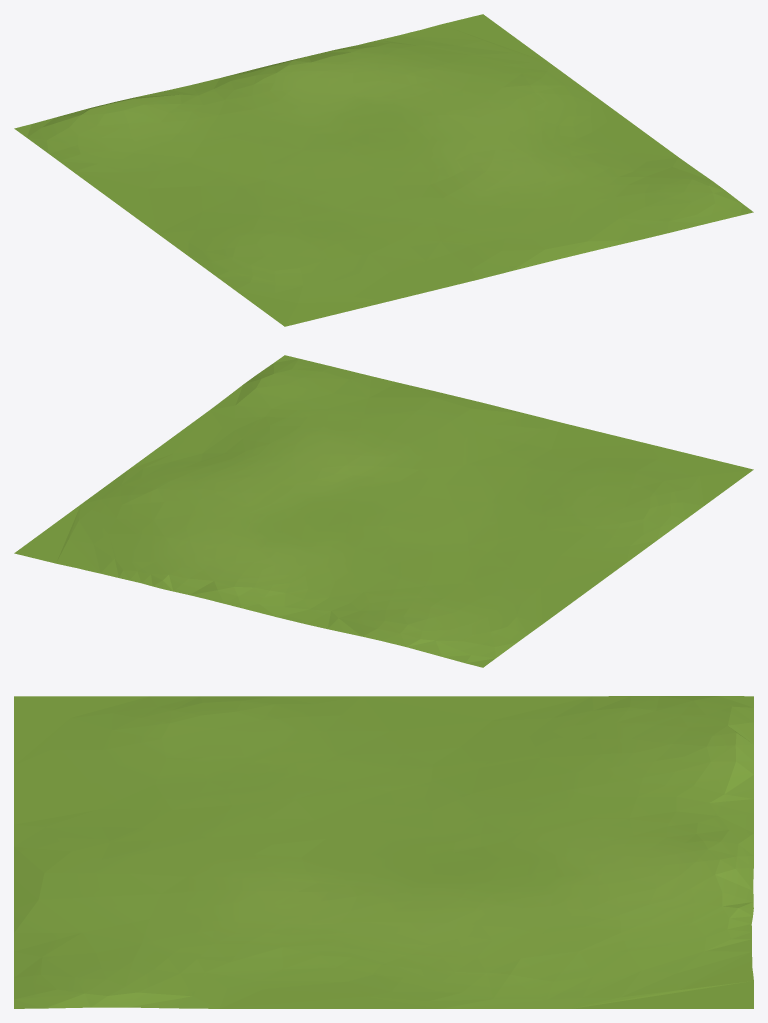
3 renders of one model, top to bottom at view 1: azimuth 30°, elevation 25°; view 2: azimuth 150°, elevation 25°; view 3: azimuth 270°, elevation 25°, orthographic. The views are drawn at different scales.
Visible parts, largest first — view 1: Plane_01; view 2: Plane_01; view 3: Plane_01.
Part boxes in pixels (x1,y1,x2,y2): Plane_01: [14, 14, 753, 326]; Plane_01: [14, 355, 753, 667]; Plane_01: [14, 696, 753, 1008].
Size of the model in its own units: 50 by 0.8454 by 50.
